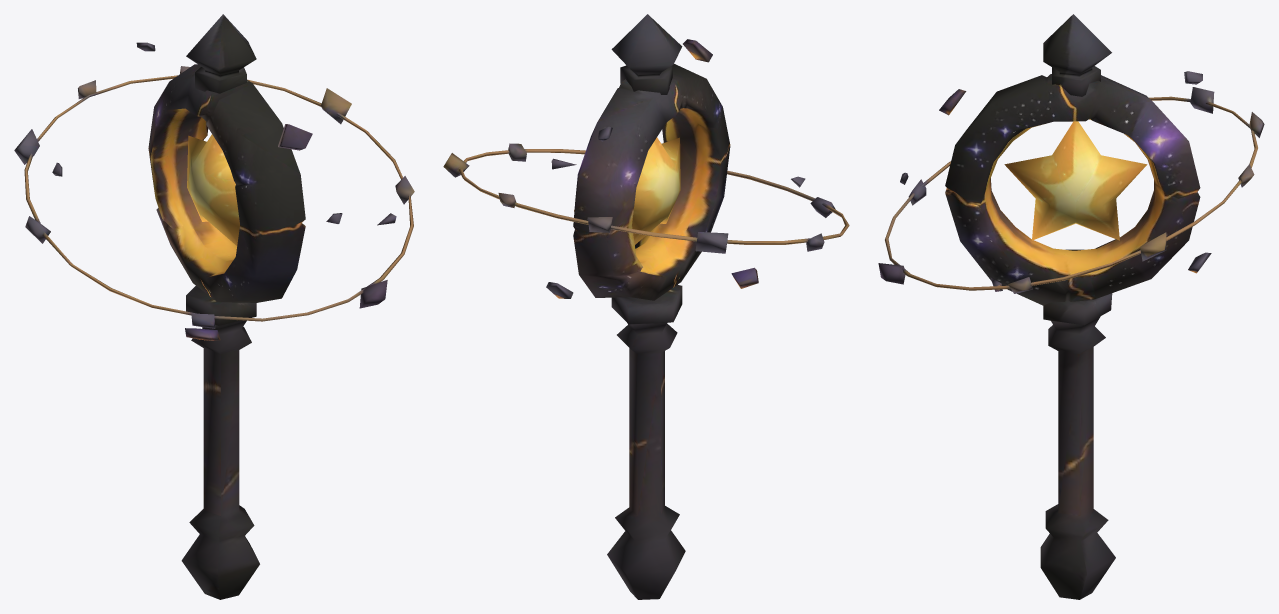
File: starfall_judgment_of_the_heavens.glb
The picture shows the model from 3 angles, left to right: view 1: azimuth 30°, elevation 25°; view 2: azimuth 150°, elevation 25°; view 3: azimuth 270°, elevation 25°; orthographic projection.
Parts seen in each view (by area): view 1: tripo_node_7e0ee7b1-3558-4548-a2eb-6dbea33198a8; view 2: tripo_node_7e0ee7b1-3558-4548-a2eb-6dbea33198a8; view 3: tripo_node_7e0ee7b1-3558-4548-a2eb-6dbea33198a8.
Part boxes in pixels (<box>): tripo_node_7e0ee7b1-3558-4548-a2eb-6dbea33198a8: <box>14,14,414,599</box>; tripo_node_7e0ee7b1-3558-4548-a2eb-6dbea33198a8: <box>443,14,849,599</box>; tripo_node_7e0ee7b1-3558-4548-a2eb-6dbea33198a8: <box>878,14,1264,599</box>.
Size of the model in its own units: 0.8904 by 1.4 by 0.8411.
Materials: 1 (1 with a texture image).
